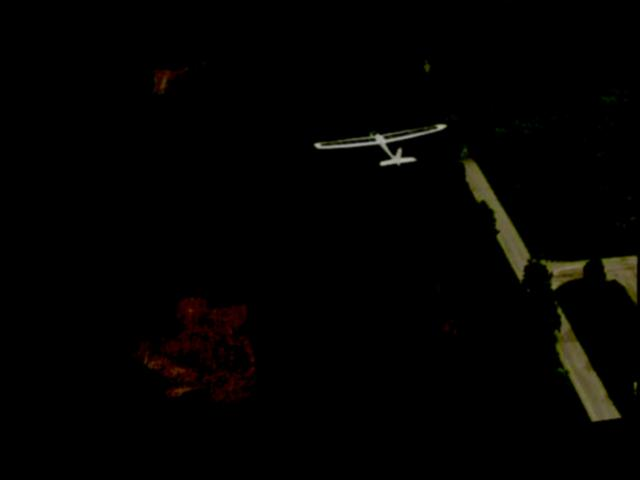uav: (300, 110, 456, 195)
